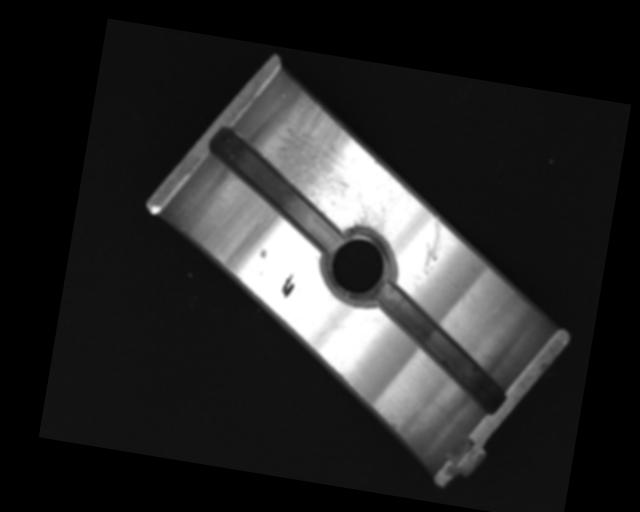blot: (280, 272, 297, 301)
bruise: (257, 246, 269, 260)
gap: (360, 281, 520, 413), (195, 127, 352, 250)
hole: (316, 223, 400, 307)
nick: (419, 214, 447, 276)
scratch: (263, 85, 410, 238)
